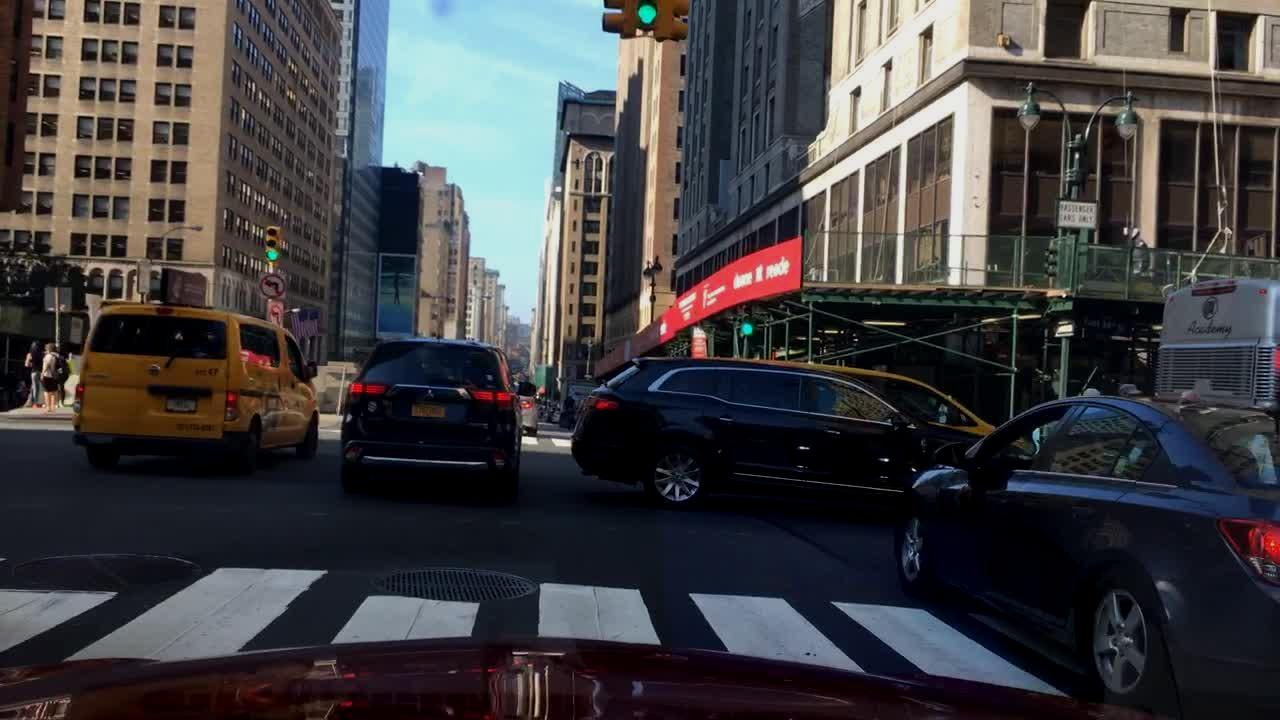Mitsubishi: (422, 387, 438, 403)
Nissan: (143, 361, 165, 381)
